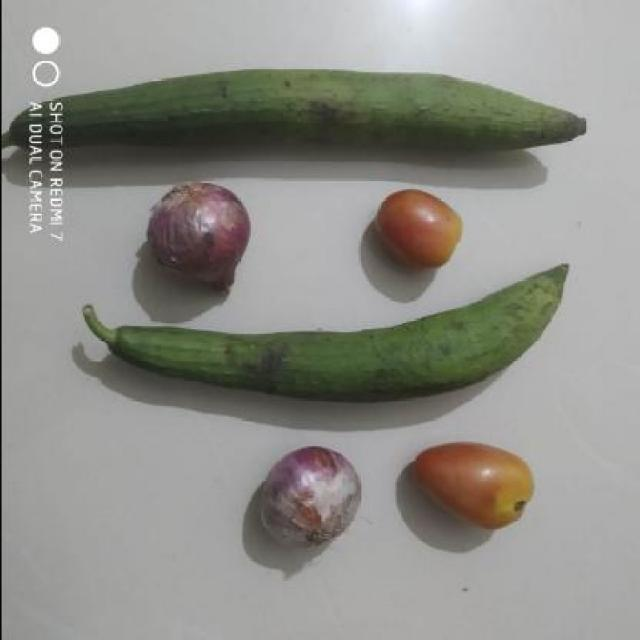Onion: (243, 441, 366, 577), (142, 182, 262, 298)
Tomato: (403, 440, 542, 537), (357, 184, 465, 280)
